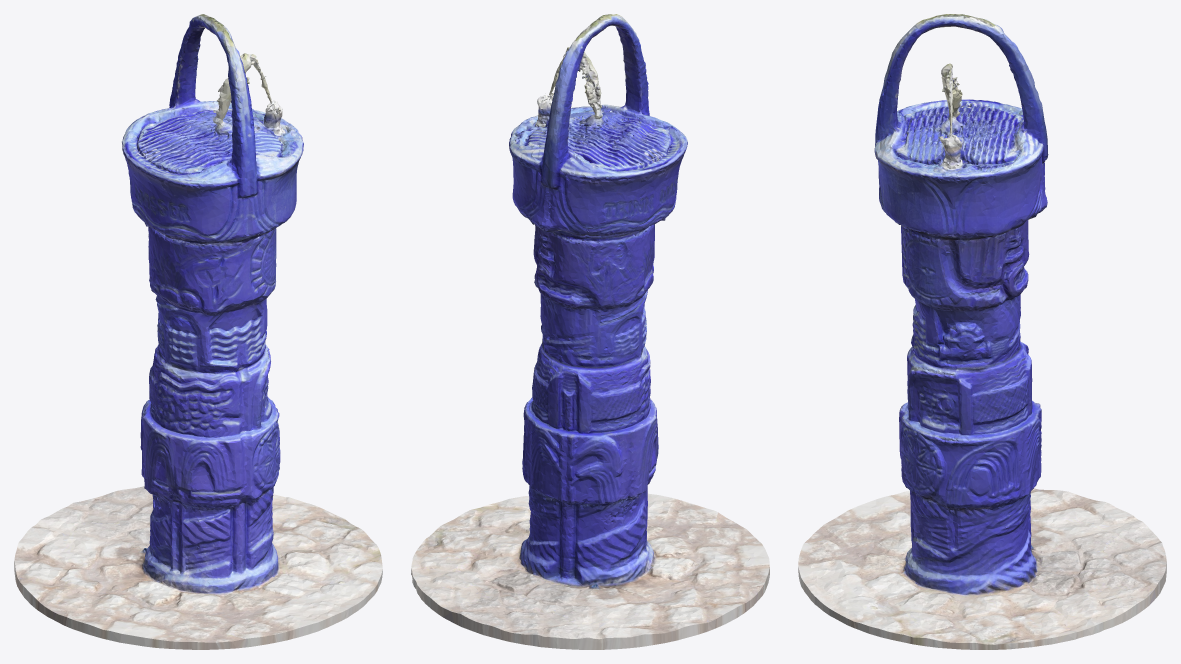
3 views of the same model, side by side, from view 1: azimuth 30°, elevation 25°; view 2: azimuth 150°, elevation 25°; view 3: azimuth 270°, elevation 25° (orthographic). The views are drawn at different scales.
Visible parts, largest first — view 1: 1k.25k; view 2: 1k.25k; view 3: 1k.25k.
Part boxes in pixels (box(x1,y1,x2,y2)): 1k.25k: box(14, 14, 382, 649); 1k.25k: box(411, 14, 769, 649); 1k.25k: box(798, 14, 1166, 649).
Bounding box in the file's own units: 2.41 × 4.04 × 2.41.
Materials: 1 (1 with a texture image).
